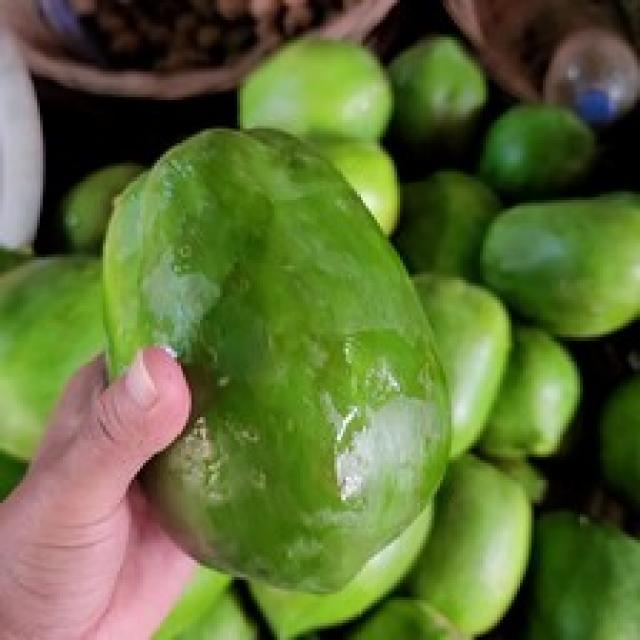Pepaya unrippen: (89, 118, 459, 601)
